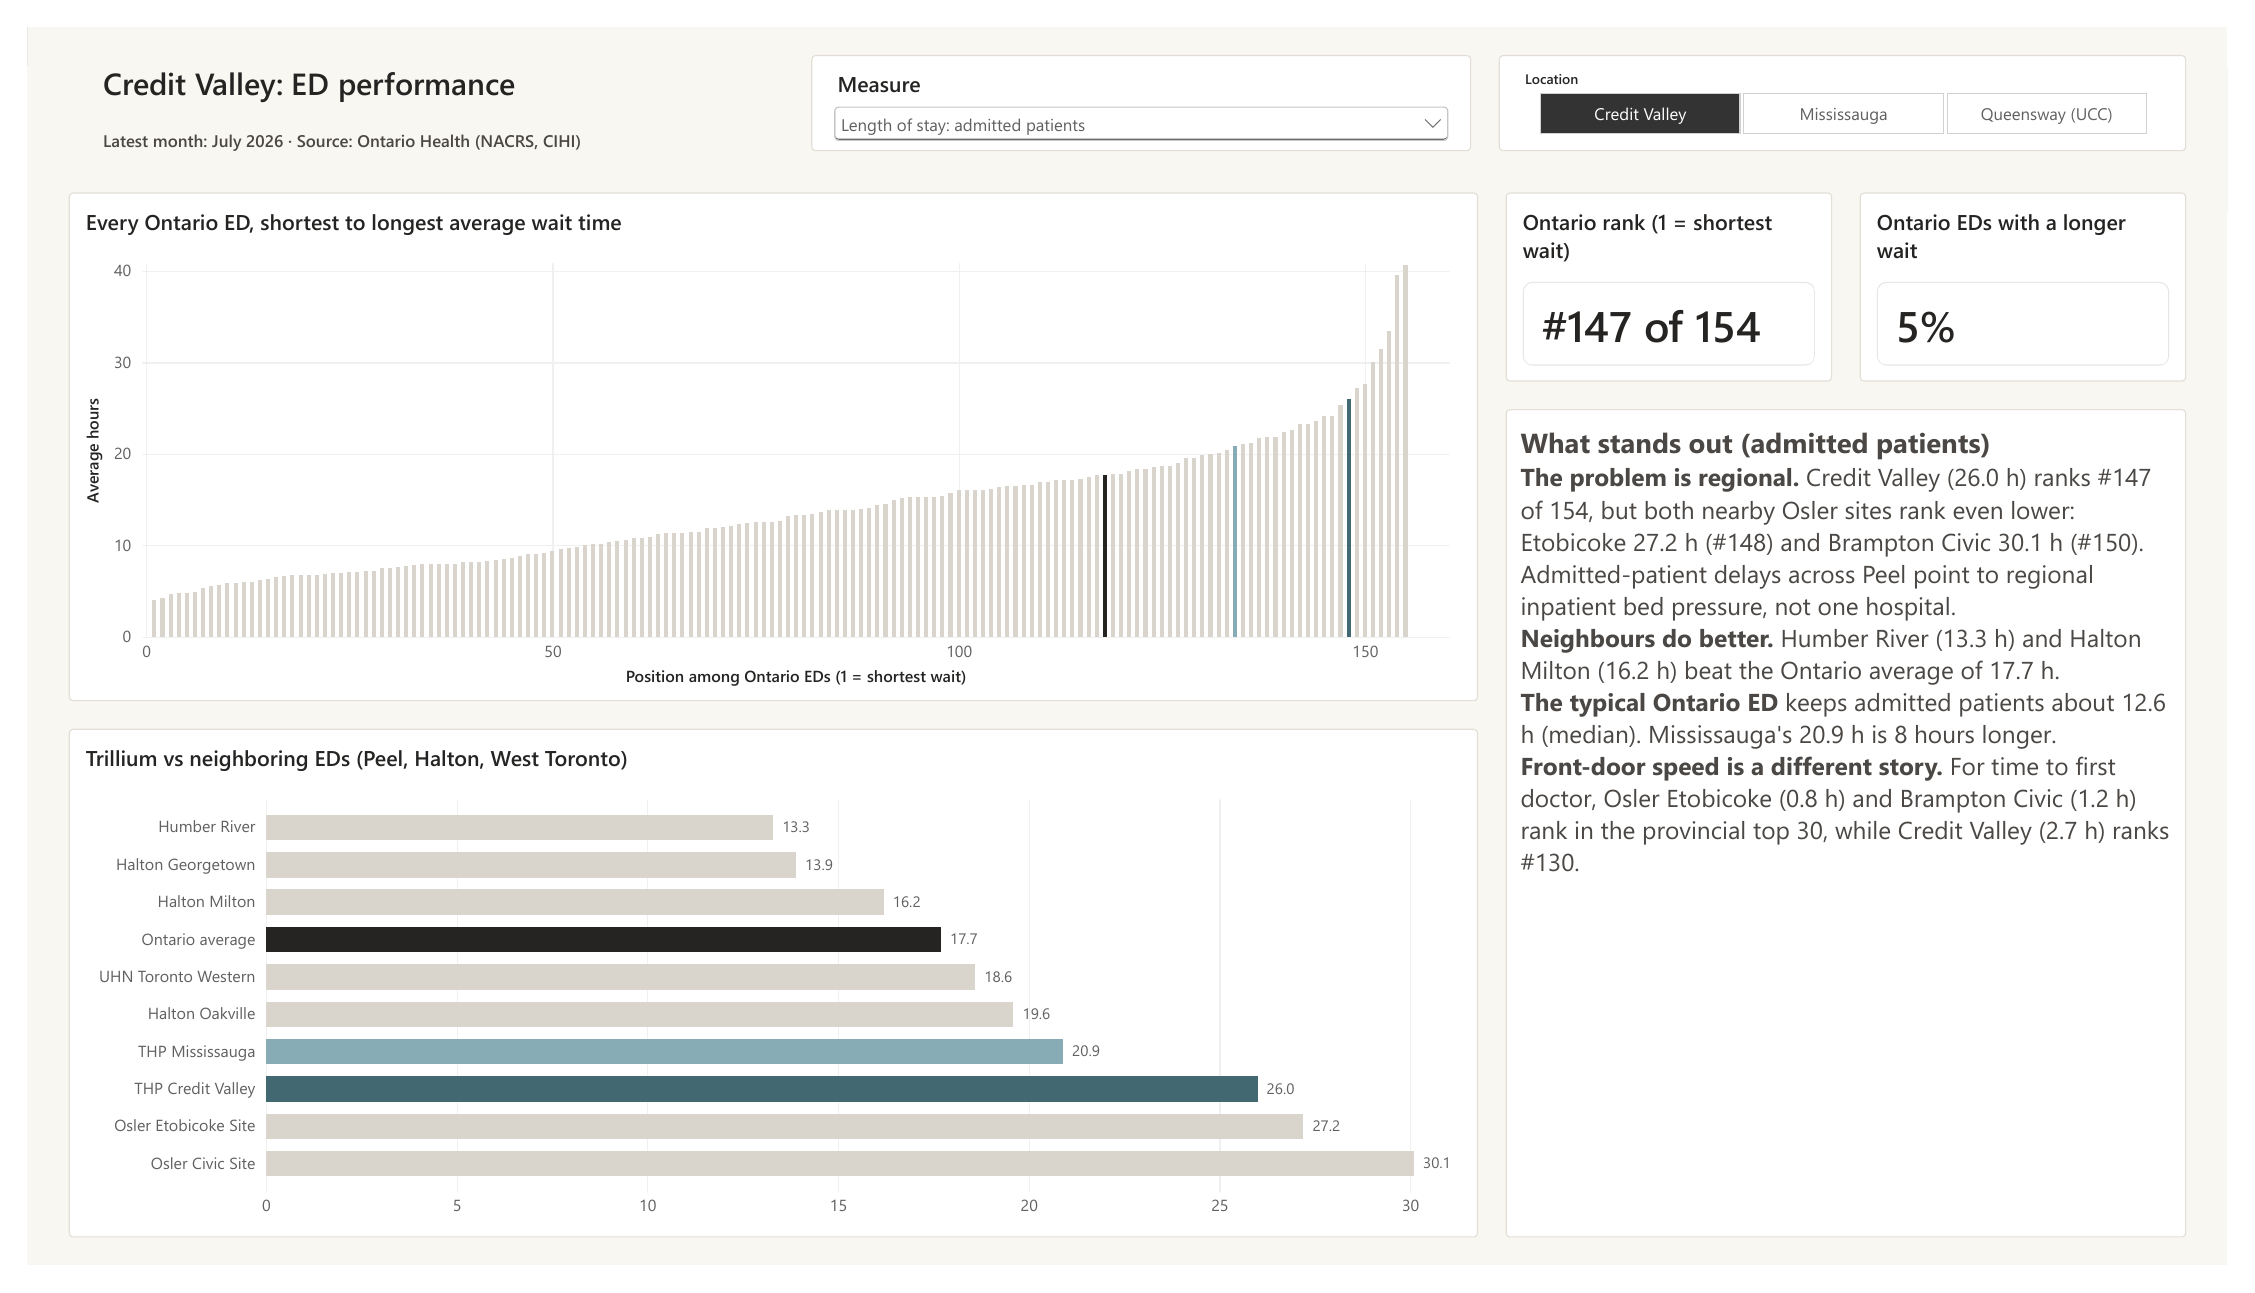

What the dashboard file says about the page in this screenshot:
{"tool":"powerbi","page":{"name":"Province ranking","canvas":[1920,1080],"ordinal":2},"visuals":[{"type":"cardVisual","fields":{"Data":["_Measures.Site Title"]},"box":[36,18,630,60],"z":0},{"type":"cardVisual","fields":{"Data":["_Measures.Page Subtitle"]},"box":[36,78,630,42],"z":1000},{"type":"slicer","fields":{"Values":["ED_Trends.Location"]},"box":[1284,24,600,84],"z":2000},{"type":"slicer","fields":{"Values":["Measure_Info.Measure_Label"]},"box":[684,24,576,84],"z":3000},{"type":"clusteredColumnChart","title":"Every Ontario ED, shortest to longest average wait time","fields":{"Category":["Rankings.Position"],"Y":["Avg(Rankings.Avg_Hours)"]},"box":[36,144,1230,444],"z":4000},{"type":"clusteredBarChart","title":"Trillium vs neighboring EDs (Peel, Halton, West Toronto)","fields":{"Category":["Rankings.Short Name"],"Y":["Avg(Rankings.Avg_Hours)"]},"box":[36,612,1230,444],"z":5000},{"type":"cardVisual","title":"Ontario rank (1 = shortest wait)","fields":{"Data":["_Measures.Rank Label"]},"box":[1290,144,285,165],"z":6000},{"type":"cardVisual","title":"Ontario EDs with a longer wait","fields":{"Data":["_Measures.Share Faster Than Site"]},"box":[1599,144,285,165],"z":7000},{"type":"textbox","box":[1290,333,594,723],"z":8000}]}

Visuals, with their boxes in screenshot pixels (x1, y1, x2, y2), scaled from the page's 1920x1080 canvas onto the 2255x1293 screenshot:
cardVisual - _Measures.Site Title: {"left": 42, "top": 22, "right": 782, "bottom": 93}
cardVisual - _Measures.Page Subtitle: {"left": 42, "top": 93, "right": 782, "bottom": 144}
slicer - ED_Trends.Location: {"left": 1508, "top": 29, "right": 2213, "bottom": 129}
slicer - Measure_Info.Measure_Label: {"left": 803, "top": 29, "right": 1480, "bottom": 129}
"Every Ontario ED, shortest to longest average wait time" clusteredColumnChart: {"left": 42, "top": 172, "right": 1487, "bottom": 704}
"Trillium vs neighboring EDs (Peel, Halton, West Toronto)" clusteredBarChart: {"left": 42, "top": 733, "right": 1487, "bottom": 1264}
"Ontario rank (1 = shortest wait)" cardVisual: {"left": 1515, "top": 172, "right": 1850, "bottom": 370}
"Ontario EDs with a longer wait" cardVisual: {"left": 1878, "top": 172, "right": 2213, "bottom": 370}
textbox: {"left": 1515, "top": 399, "right": 2213, "bottom": 1264}
